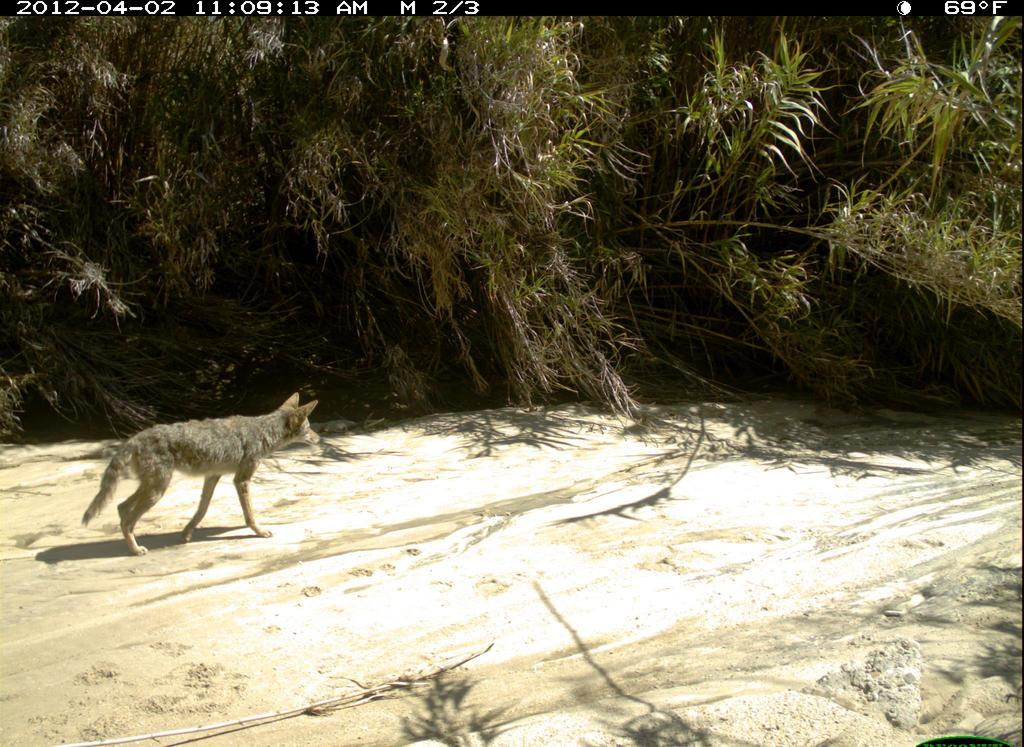coyote: (79, 386, 335, 564)
